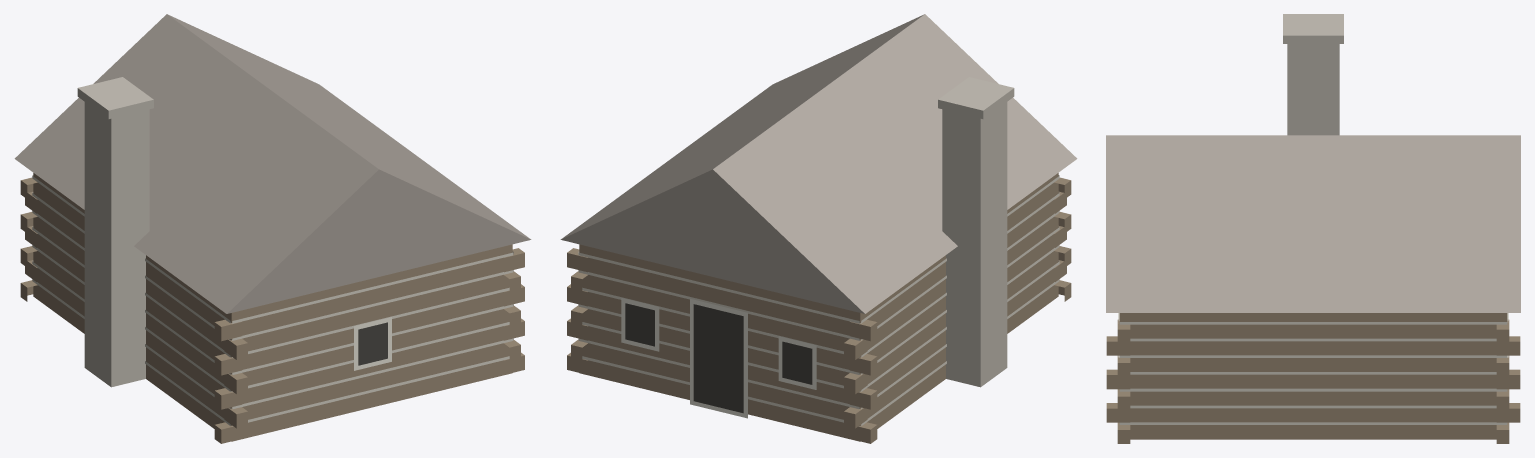
File: recon_1835_north_d1_023__inferred_1835.glb
3 views of the same model, side by side, from view 1: azimuth 30°, elevation 25°; view 2: azimuth 150°, elevation 25°; view 3: azimuth 270°, elevation 25° (orthographic). The views are drawn at different scales.
Visible parts, largest first — view 1: recon_1835_north_d1_023__inferred_1835; view 2: recon_1835_north_d1_023__inferred_1835; view 3: recon_1835_north_d1_023__inferred_1835.
Part boxes in pixels (x1=…): recon_1835_north_d1_023__inferred_1835: x1=14, y1=14, x2=531, y2=443; recon_1835_north_d1_023__inferred_1835: x1=560, y1=14, x2=1077, y2=443; recon_1835_north_d1_023__inferred_1835: x1=1106, y1=14, x2=1520, y2=443.
Bounding box in the file's own units: 6.91 × 5.62 × 7.65.
